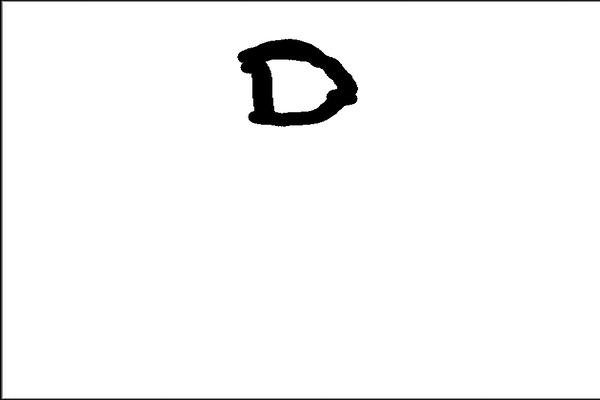D: (231, 34, 364, 131)
